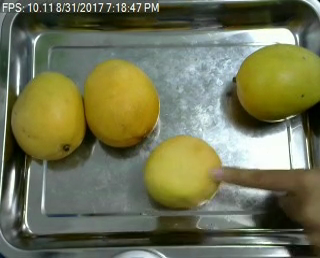Mango: (84, 57, 161, 147), (10, 69, 85, 161), (236, 42, 320, 122), (143, 134, 223, 208)
